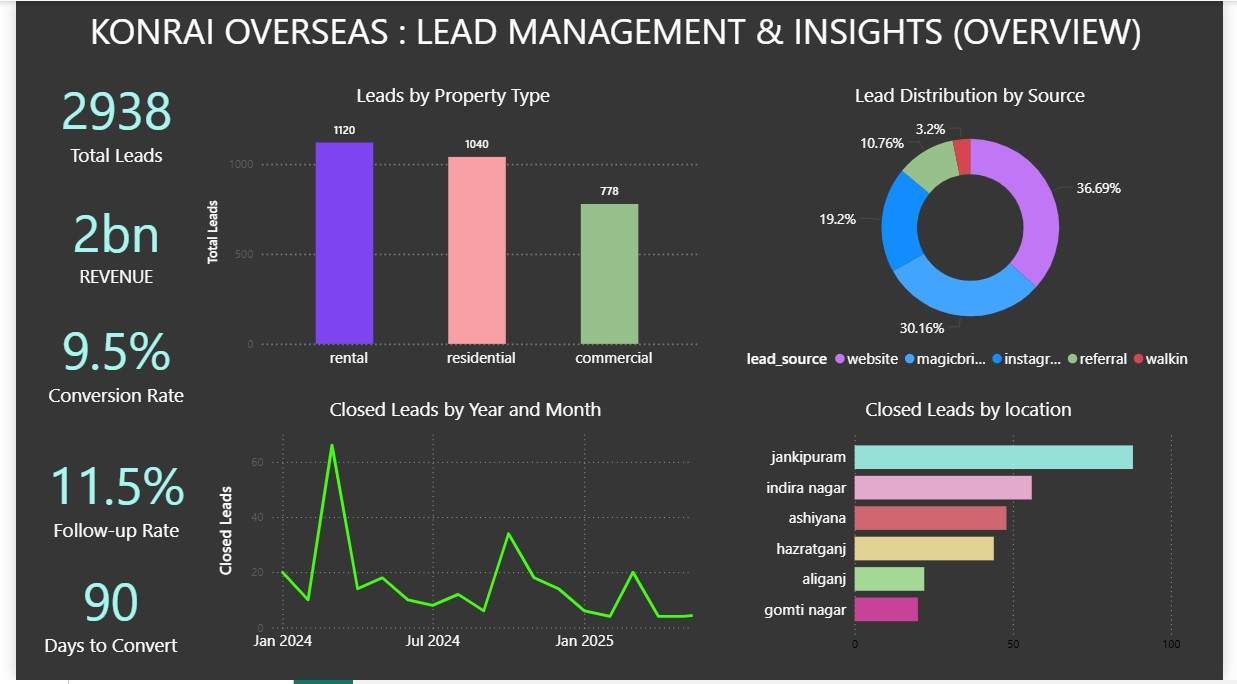

The dashboard page shown, as its layout file describes it:
{"tool":"powerbi","page":{"name":"Overview","canvas":[1280,720],"ordinal":0},"visuals":[{"type":"card","fields":{"Values":["Measures_Table.Total Leads"]},"box":[15,71.7,183.3,108.3],"z":0},{"type":"card","fields":{"Values":["Measures_Table.REVENUE"]},"box":[15,200,183.3,108.3],"z":1000},{"type":"card","fields":{"Values":["Measures_Table.Follow-up Rate"]},"box":[15,470,183.3,108.3],"z":2000},{"type":"card","fields":{"Values":["Measures_Table.Conversion %"]},"box":[15,326.7,183.3,108.3],"z":3000},{"type":"textbox","box":[14.3,0,1243.9,71.6],"z":5000},{"type":"donutChart","title":"Lead Distribution by Source","fields":{"Category":["master_leads.lead_source"],"Y":["Measures_Table.Total Leads"]},"box":[765.1,85.9,493.1,313.4],"z":6000},{"type":"clusteredColumnChart","title":"Leads by Property Type","fields":{"Category":["master_leads.proptype"],"Y":["Measures_Table.Total Leads"]},"box":[197.2,85.9,532.9,313.4],"z":7000},{"type":"clusteredBarChart","fields":{"Y":["Measures_Table.Closed Leads"],"Category":["master_leads.location"]},"box":[781.7,418.3,458.3,281.7],"z":8000},{"type":"lineChart","fields":{"Category":["master_leads.Start of Month.Variation.Date Hierarchy.Year","master_leads.Start of Month.Variation.Date Hierarchy.Month"],"Y":["Measures_Table.Closed Leads"]},"box":[210,418.3,533.3,281.7],"z":9000},{"type":"card","fields":{"Values":["Measures_Table.Days to Convert"]},"box":[14.3,591.7,182.9,108.2],"z":9001}]}

Visuals, with their boxes in screenshot pixels (x1, y1, x2, y2), scaled from the page's 1280x720 canvas onto the 1237x684 screenshot:
card - Measures_Table.Total Leads: 14, 68, 192, 171
card - Measures_Table.REVENUE: 14, 190, 192, 293
card - Measures_Table.Follow-up Rate: 14, 446, 192, 549
card - Measures_Table.Conversion %: 14, 310, 192, 413
textbox: 14, 0, 1216, 68
"Lead Distribution by Source" donutChart: 739, 82, 1216, 379
"Leads by Property Type" clusteredColumnChart: 191, 82, 706, 379
clusteredBarChart - Measures_Table.Closed Leads x master_leads.location: 755, 397, 1198, 665
lineChart - master_leads.Start of Month.Variation.Date Hierarchy.Year x master_leads.Start of Month.Variation.Date Hierarchy.Month: 203, 397, 718, 665
card - Measures_Table.Days to Convert: 14, 562, 191, 665
